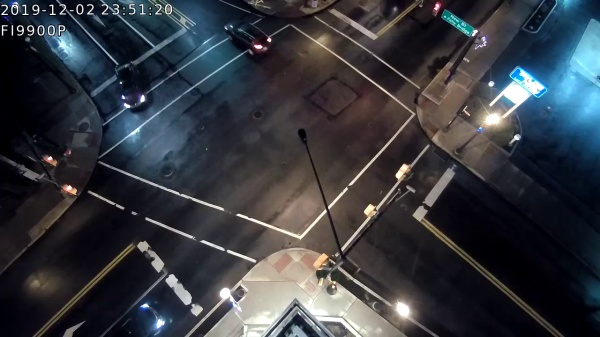car: (102, 299, 170, 337), (221, 17, 281, 55), (113, 61, 150, 111)
